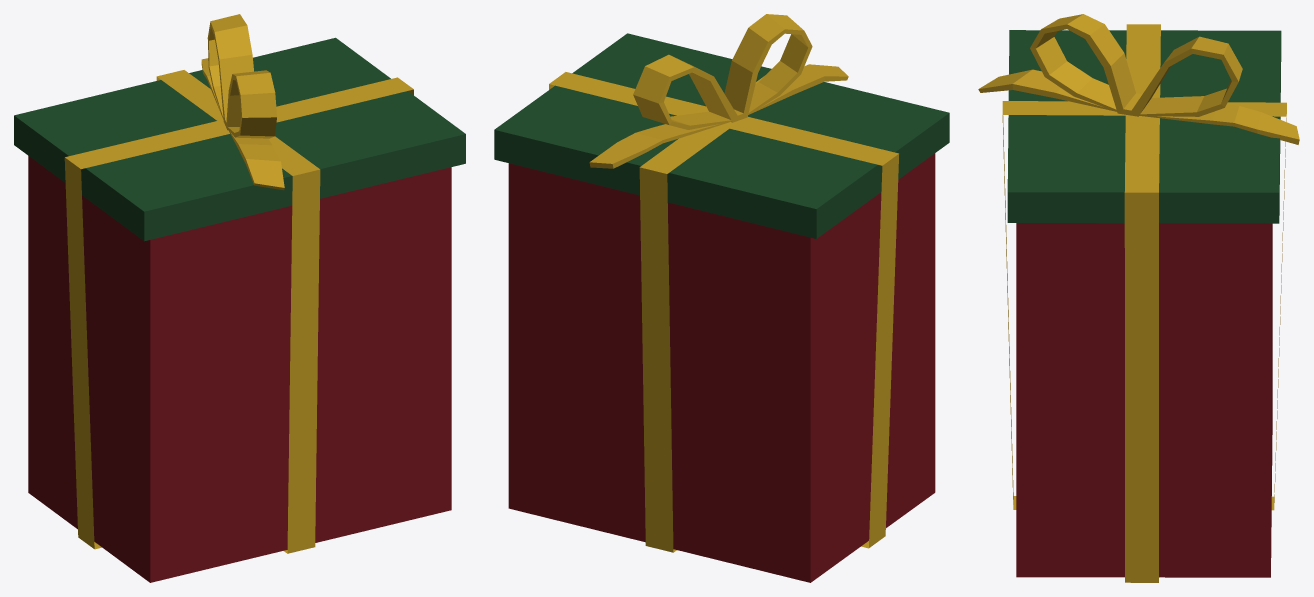
Rendered from Present_long.fbx.
The picture shows the model from 3 angles, left to right: view 1: azimuth 30°, elevation 25°; view 2: azimuth 150°, elevation 25°; view 3: azimuth 270°, elevation 25°; orthographic projection. The views are drawn at different scales.
Visible parts, largest first — view 1: Present_long; view 2: Present_long; view 3: Present_long.
Boxes of the visible parts, x1,y1,x2,y2 form: Present_long: (14, 14, 465, 582); Present_long: (494, 14, 949, 582); Present_long: (978, 14, 1299, 582).
Bounding box in the file's own units: 0.2613 × 0.3471 × 0.2115.
